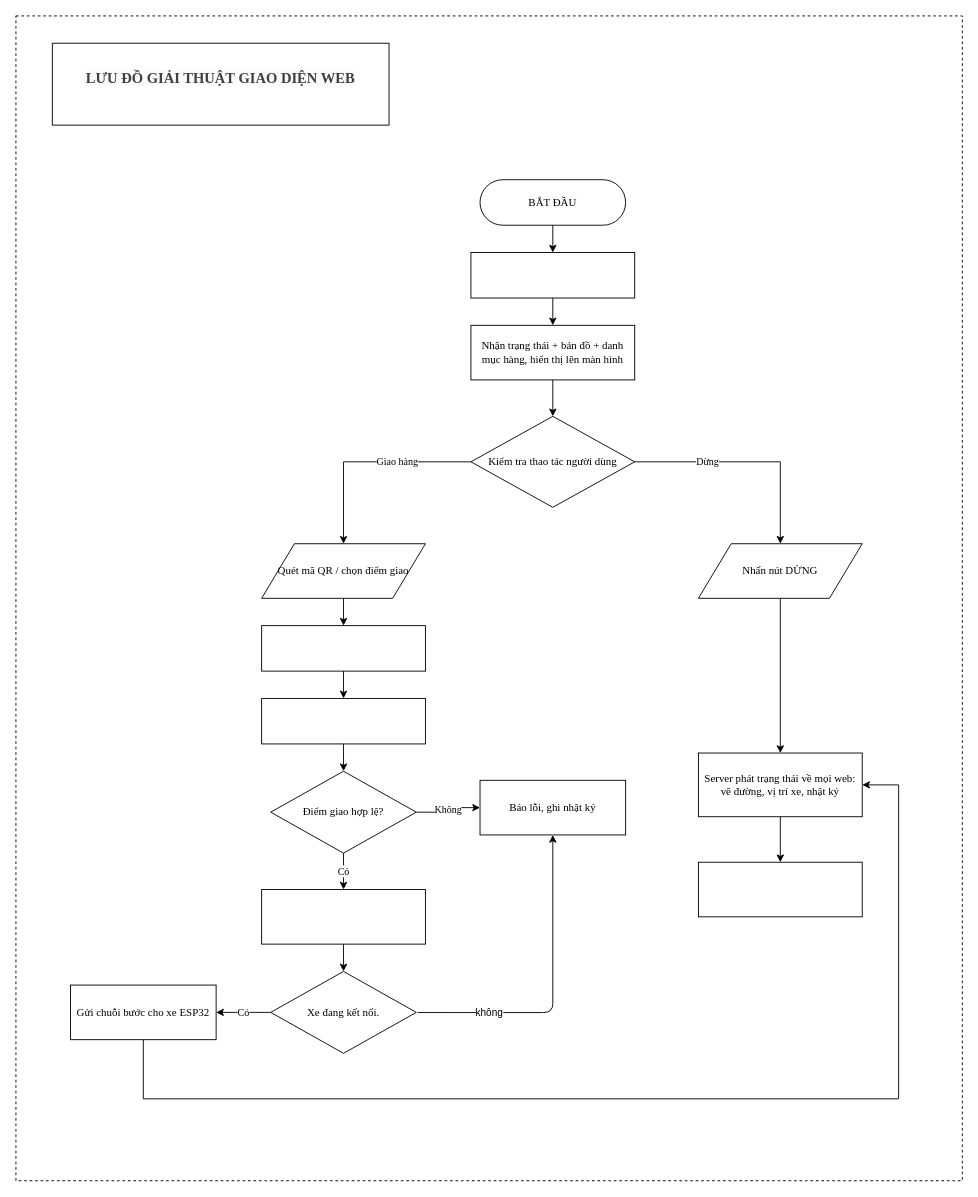
This 978x1197 diagram has some shape labels left out. The shapes that lost their labels are listed below. From the top down, each one's centre as x and y in pixels, then its label:
At pixel 552 275: "Mở trang web, kết nối server qua WebSocket".
At pixel 343 648: "Gửi lệnh lên server".
At pixel 343 721: "Server tra cứu điểm giao từ mã".
At pixel 780 889: "Xe tới nơi → thả hàng → về HOME".
At pixel 343 916: "Tính đường đi, sinh chuỗi bước di chuyển".
